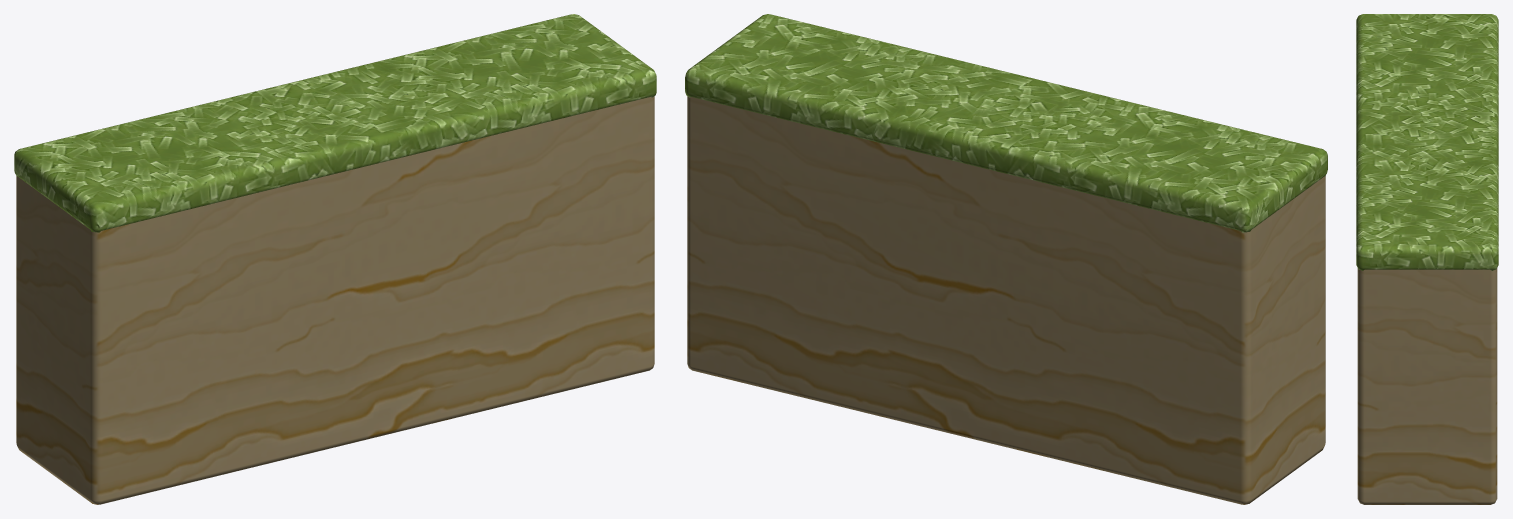
The model's file is SM_Platform_1m_03_C.glb.
3 views of the same model, side by side, from view 1: azimuth 30°, elevation 25°; view 2: azimuth 150°, elevation 25°; view 3: azimuth 270°, elevation 25° (orthographic). The views are drawn at different scales.
Visible parts, largest first — view 1: SM_Platform_1m_03_C; view 2: SM_Platform_1m_03_C; view 3: SM_Platform_1m_03_C.
Part boxes in pixels (<box>): SM_Platform_1m_03_C: <box>14,14,656,504</box>; SM_Platform_1m_03_C: <box>685,14,1327,504</box>; SM_Platform_1m_03_C: <box>1356,14,1498,504</box>.
Bounding box in the file's own units: 4.02 × 2.05 × 1.02.
2 materials, 2 textured.
